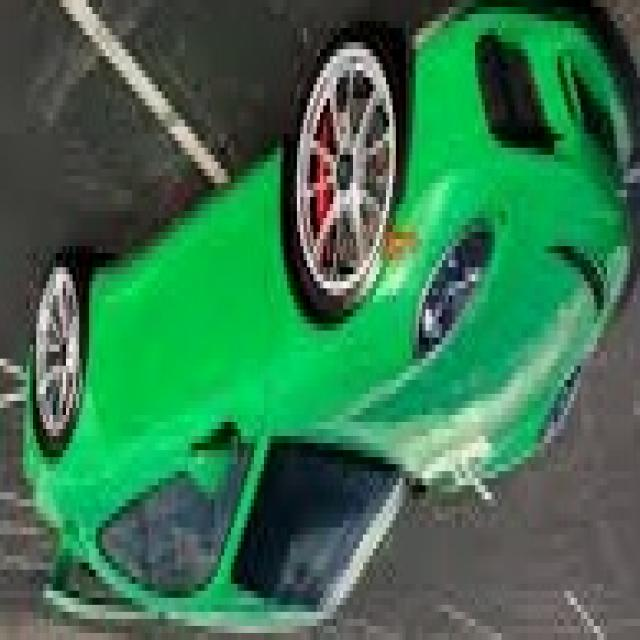green: (23, 5, 640, 633)
